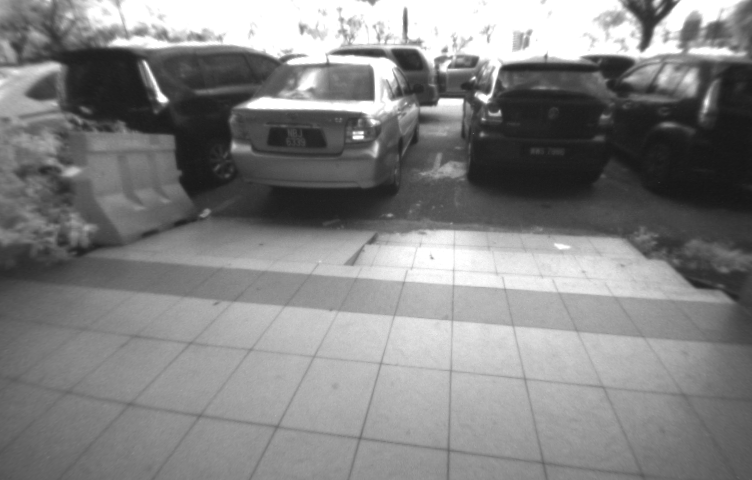down_steps: (345, 219, 742, 318)
mixed_gradient: (305, 216, 405, 287)
